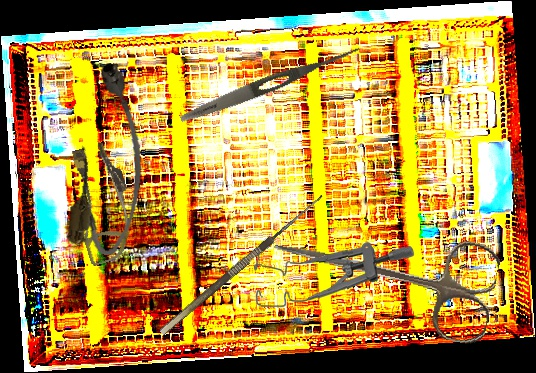Cannula: (64, 60, 158, 259), (58, 139, 146, 267)
Dressing Forceps: (177, 39, 363, 128)
Hook Surgical: (151, 185, 326, 336)
Iris Scissors: (262, 201, 504, 348)
Speculum: (250, 238, 416, 313)
